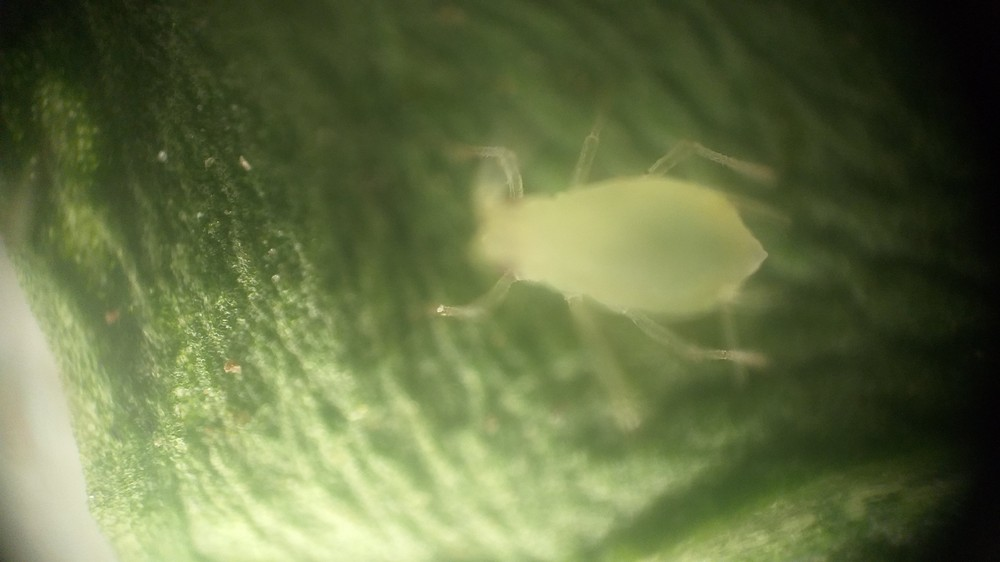Pulgon: (428, 101, 844, 441)
